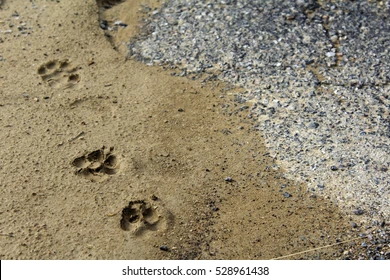coyote: (119, 199, 168, 243), (69, 145, 122, 185), (37, 58, 81, 92)
